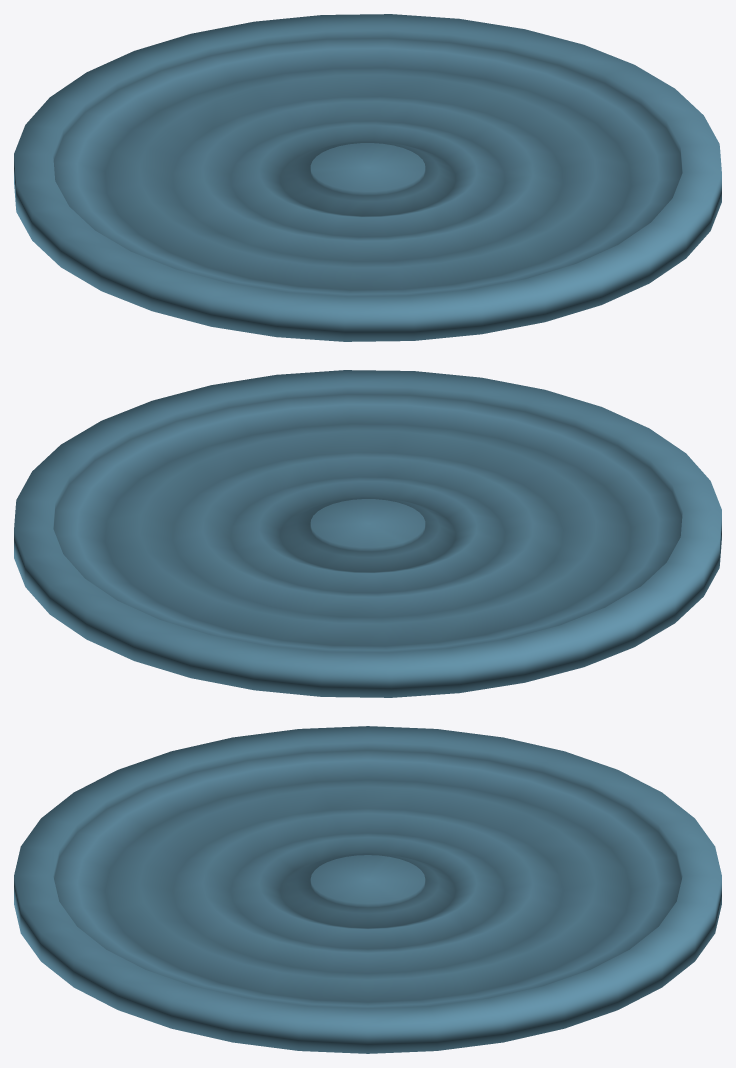
The model's file is microscopic-plankton-centric-diatom_v1.fbx.
3 views of the same model, one above another, from view 1: azimuth 30°, elevation 25°; view 2: azimuth 150°, elevation 25°; view 3: azimuth 270°, elevation 25° (orthographic).
Parts seen in each view (by area): view 1: Centric Diatom_v1; view 2: Centric Diatom_v1; view 3: Centric Diatom_v1.
Boxes of the visible parts, <box> form: Centric Diatom_v1: <box>14,14,721,341</box>; Centric Diatom_v1: <box>14,370,721,697</box>; Centric Diatom_v1: <box>14,726,721,1053</box>.
Bounding box in the file's own units: 0.5 × 0.0288 × 0.5.
